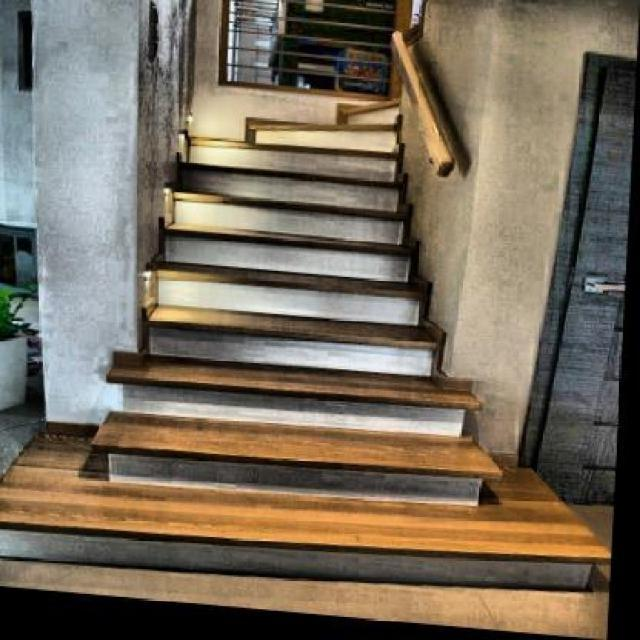stair: (109, 100, 526, 529)
